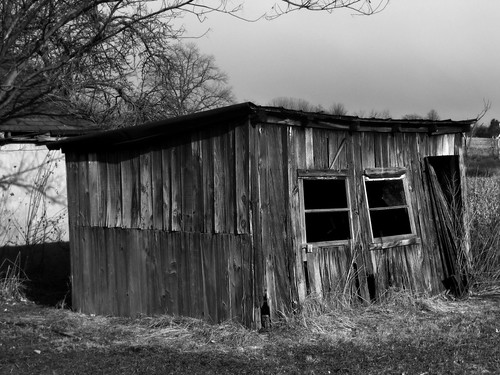building: (61, 101, 476, 328)
sky: (242, 1, 500, 104)
tree: (1, 1, 228, 118), (132, 44, 238, 126)
